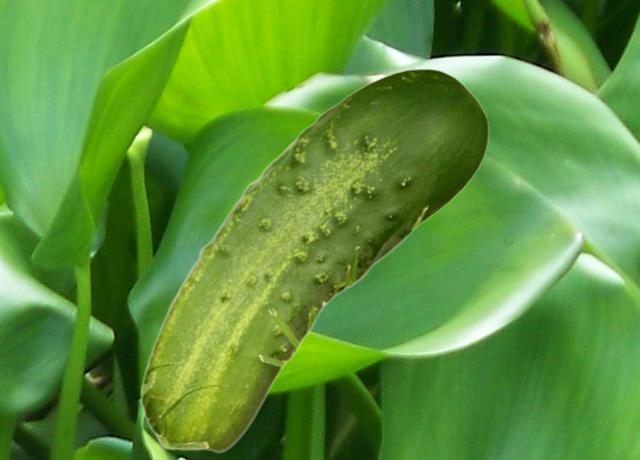cucumber: (139, 68, 488, 452)
